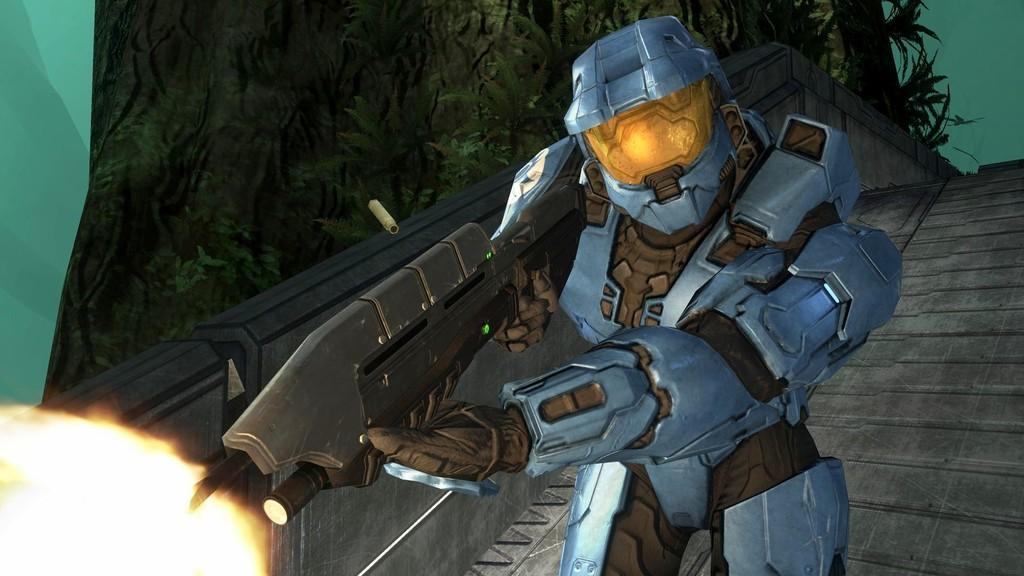Rifle: (187, 179, 584, 525)
